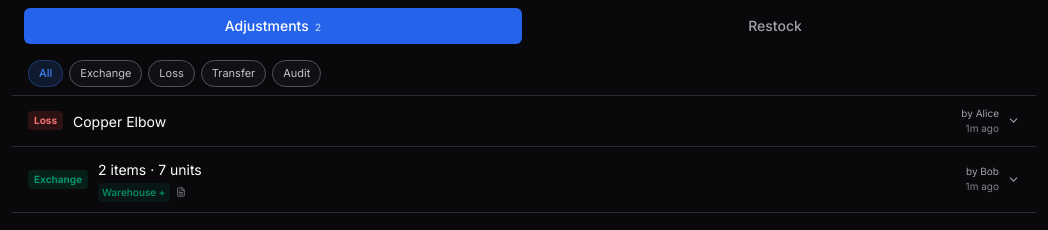
Test: StockHistorySection › shows clear filter link and resets to all
Step 1. Click the button titled "Warehouse Exchange" → (106, 73), box [69, 60, 142, 86]
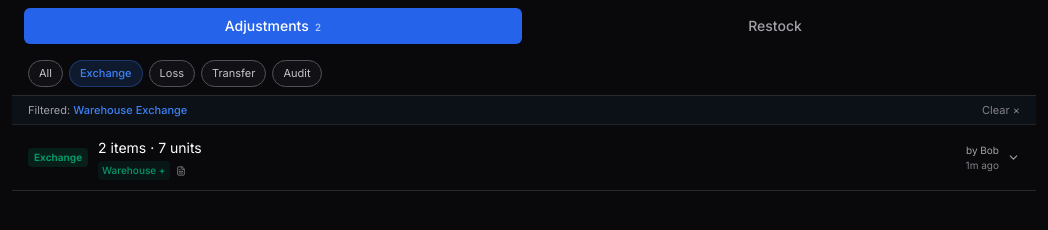
Expected: the button "Copper Elbow" is gone
Expected: the text "Filtered:" is shown, [28, 102, 73, 116]
Step 2. Click the button "Clear ×" → (1001, 110), box [982, 102, 1020, 118]
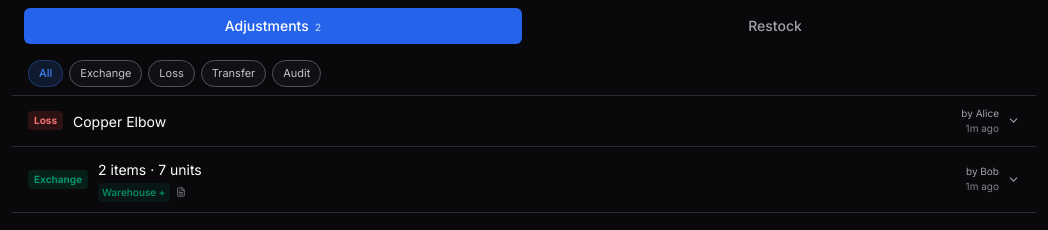
Expected: the text "Copper Elbow" is shown, [73, 112, 166, 130]
Expected: the text "Filtered:" is gone
